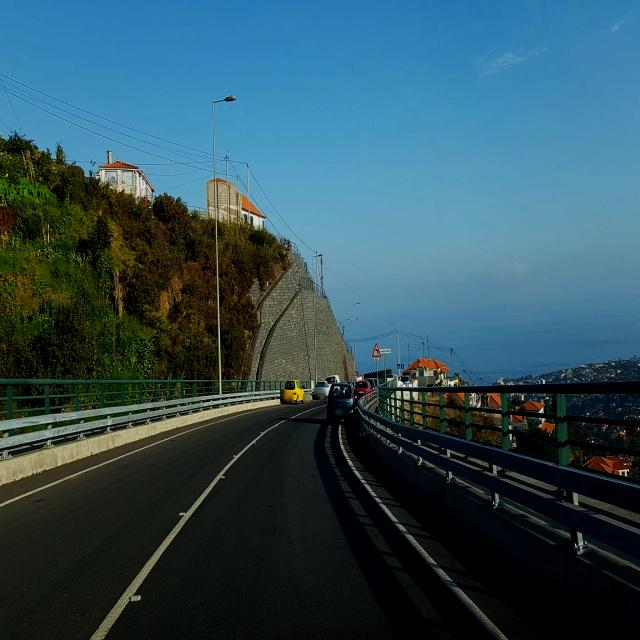car: (326, 380, 360, 426), (280, 378, 306, 404), (354, 379, 375, 405), (312, 380, 332, 402)
